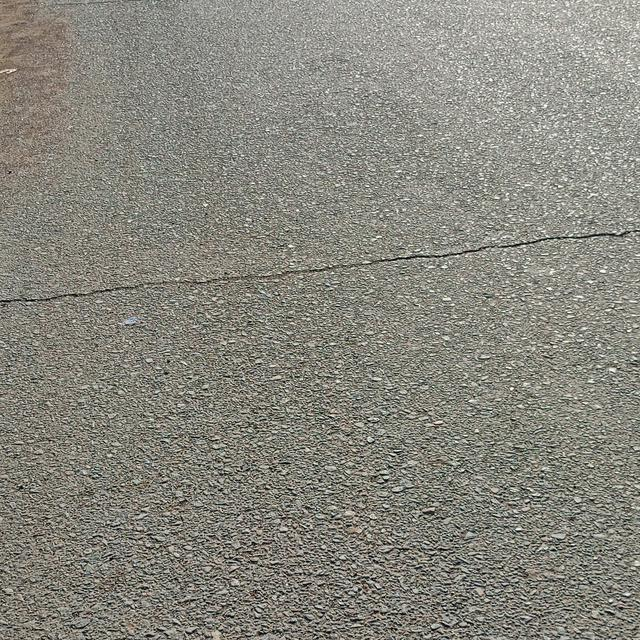Melintang: (0, 217, 640, 318)
